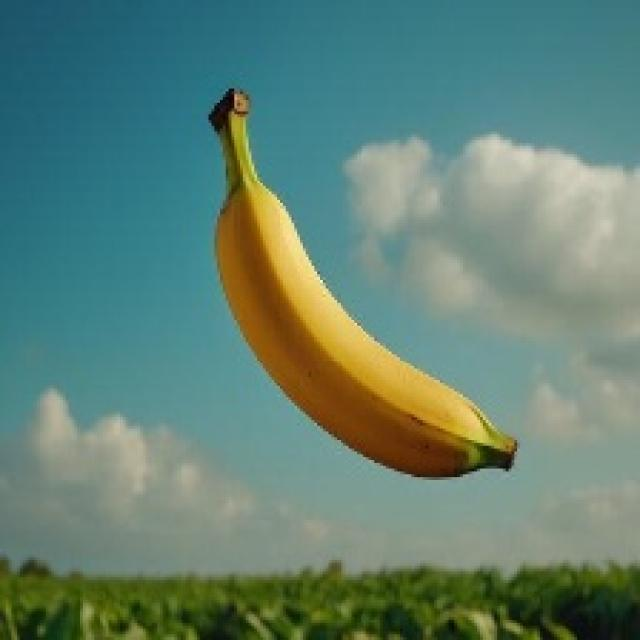Banana: (206, 86, 517, 477)
